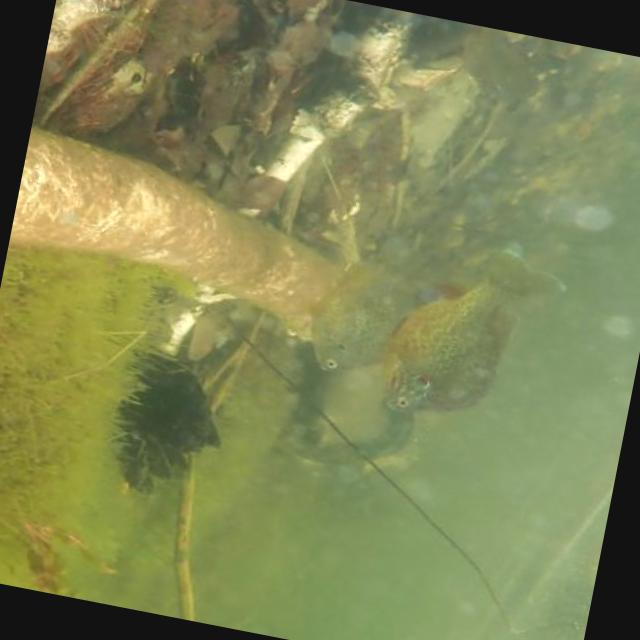Gunes Levregi: (363, 225, 584, 466)
